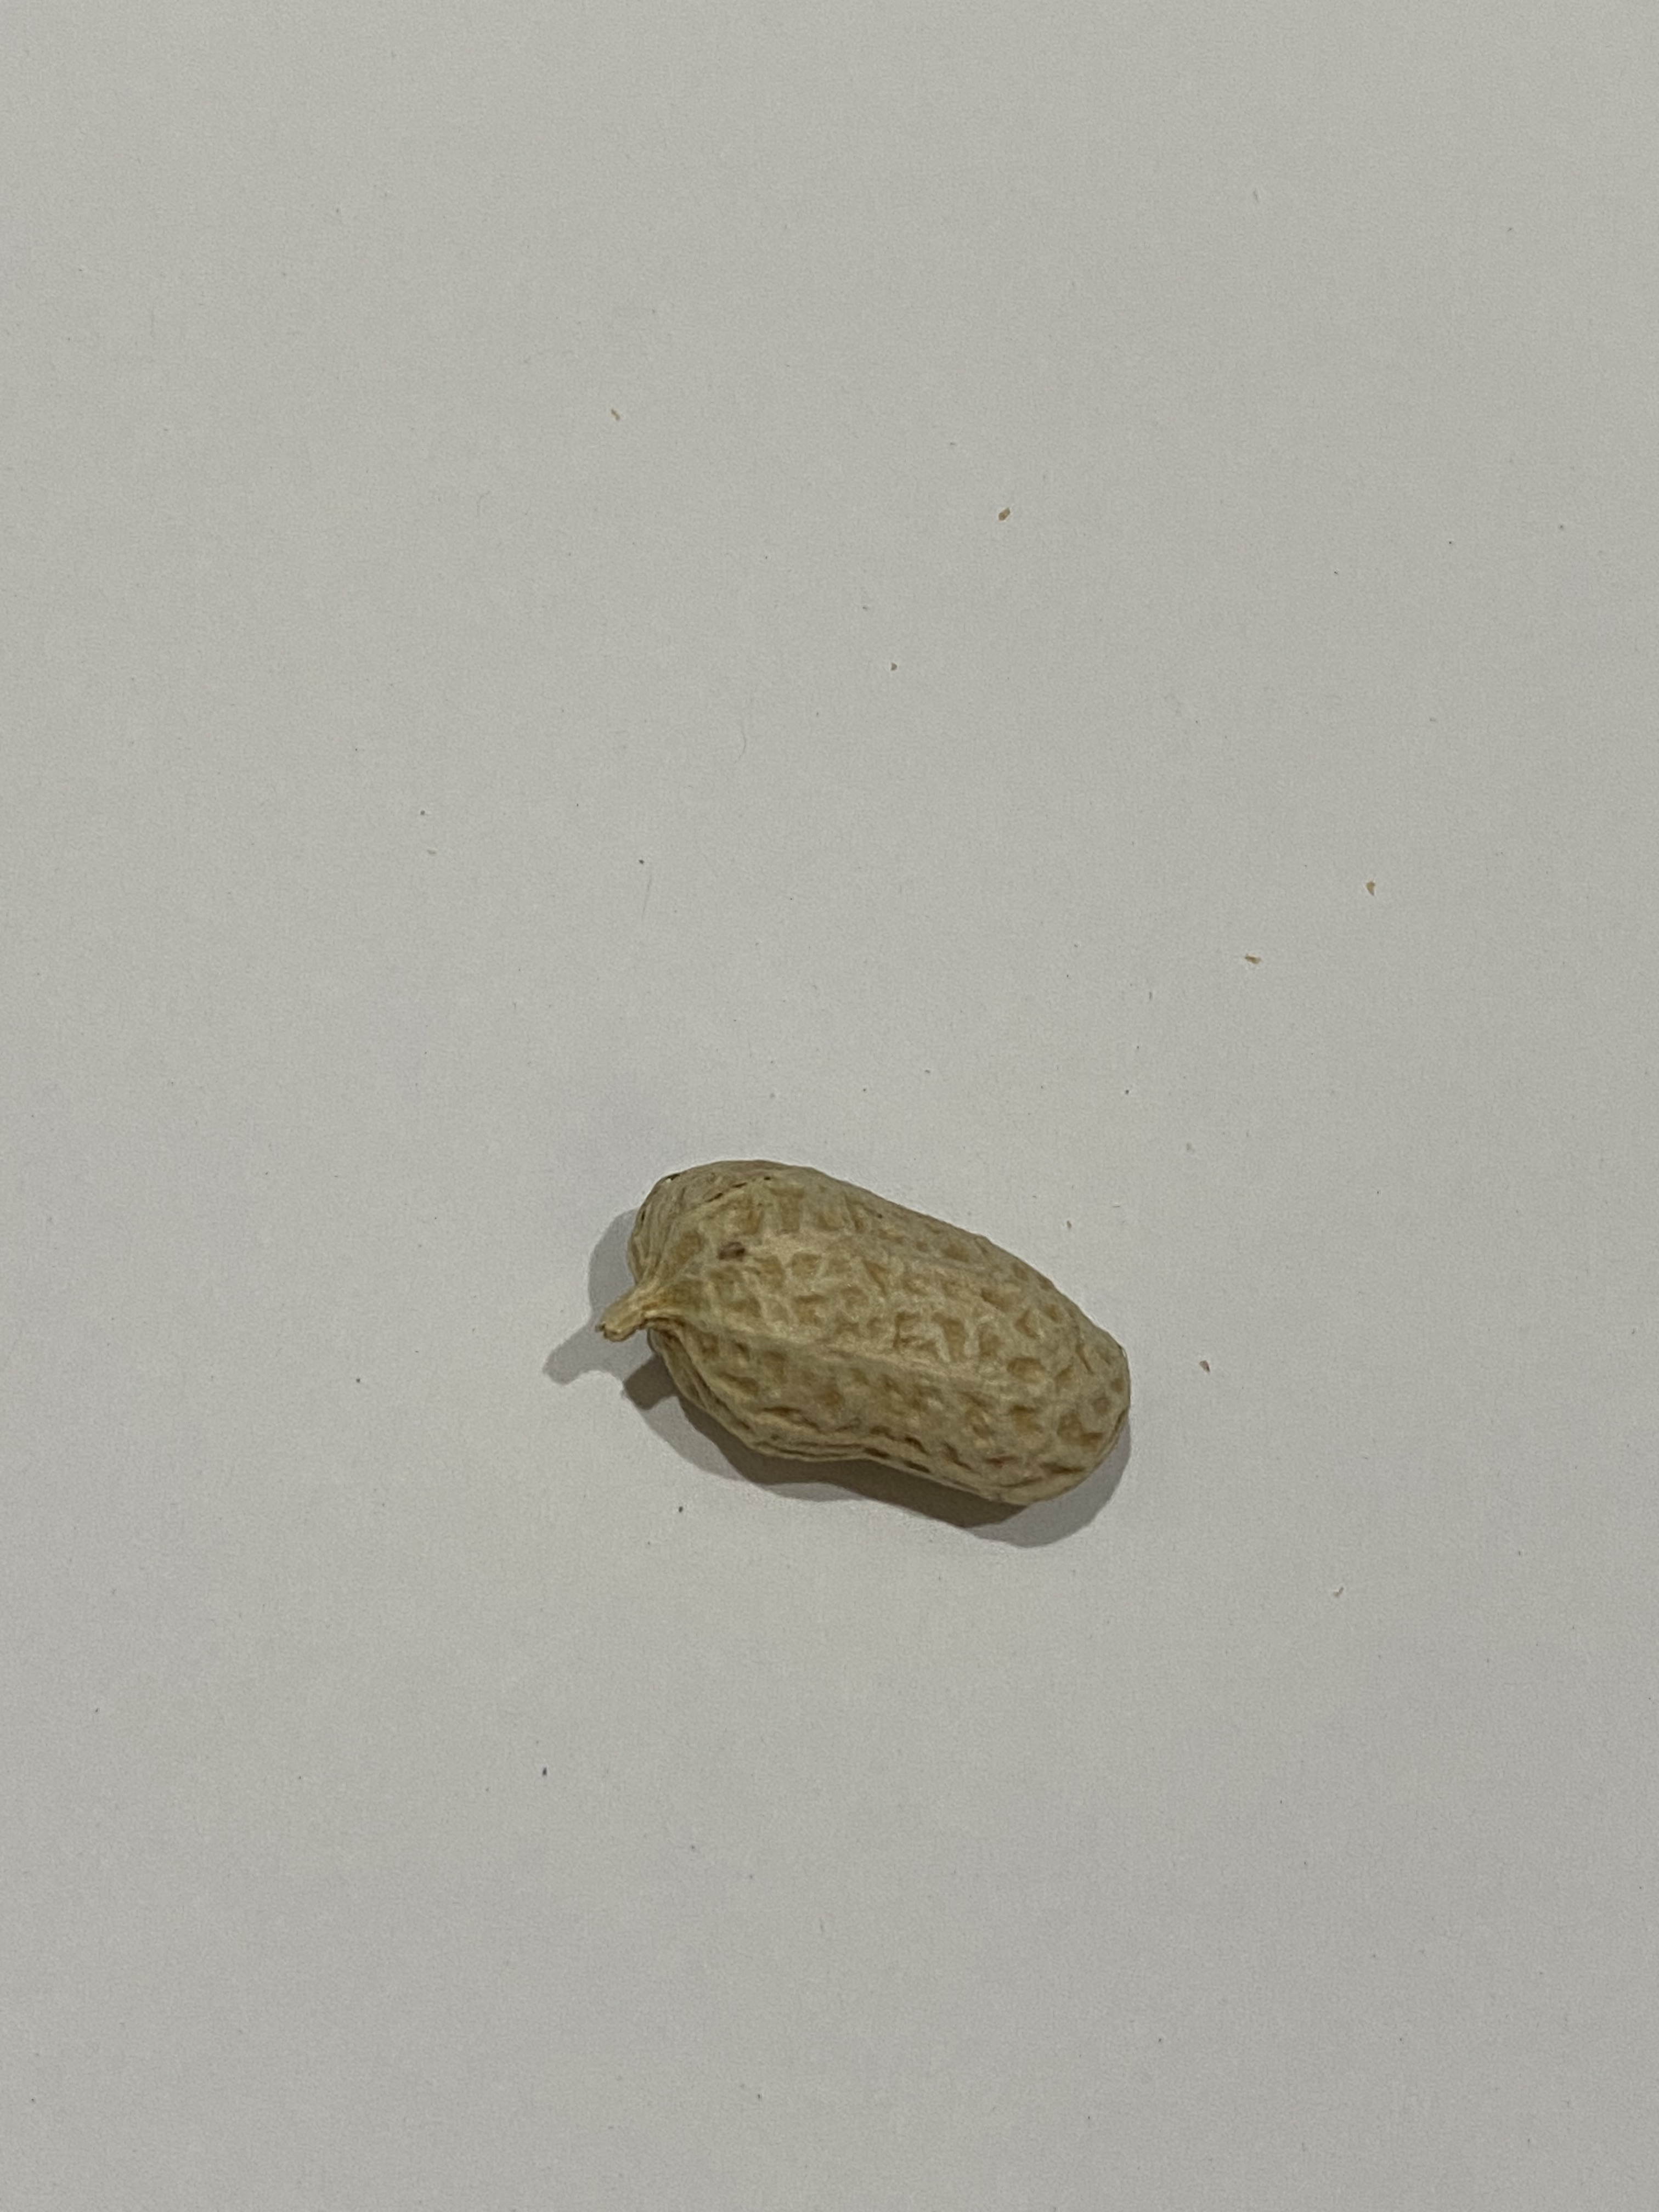kacang2: (584, 1130, 1150, 1541)
